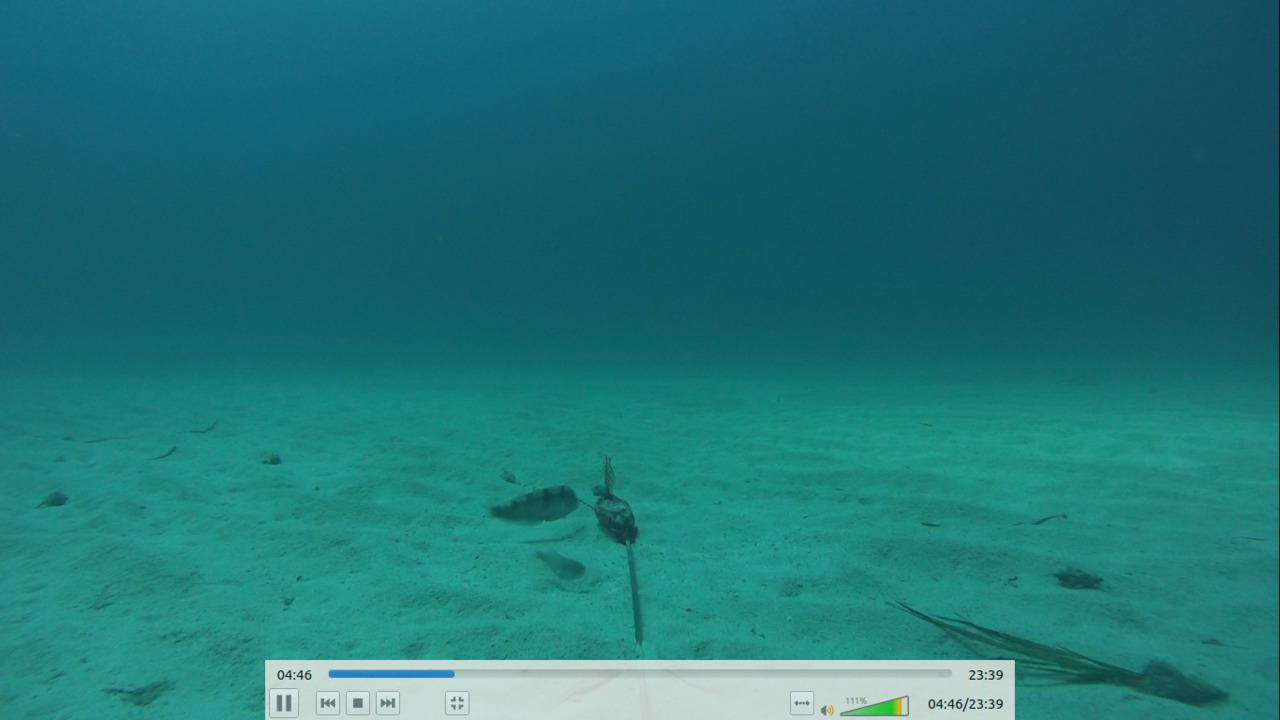raor: (476, 477, 581, 530), (523, 543, 589, 589)
